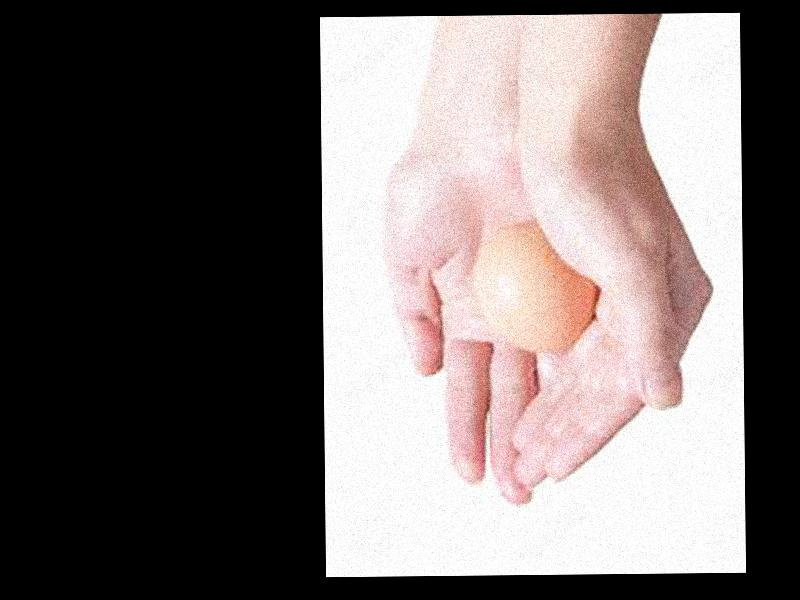Eggs: (478, 228, 594, 351)
